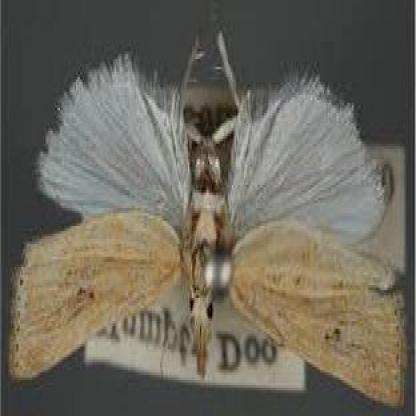stem-borer: (6, 20, 408, 414)
